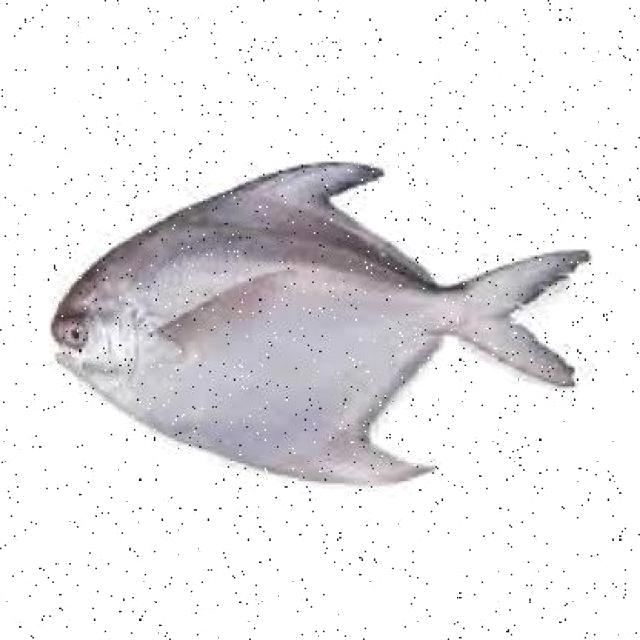ikan-pacu: (50, 159, 581, 481)
